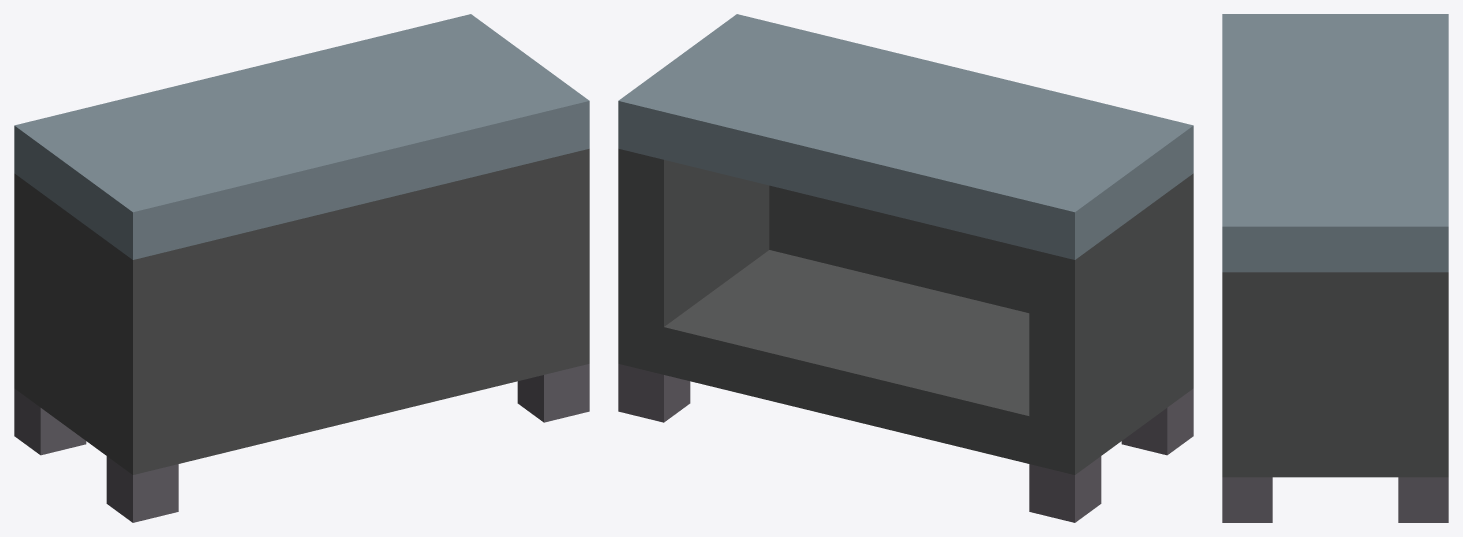
The model's file is wall_doohikey.gltf.
The picture shows the model from 3 angles, left to right: view 1: azimuth 30°, elevation 25°; view 2: azimuth 150°, elevation 25°; view 3: azimuth 270°, elevation 25°; orthographic projection. The views are drawn at different scales.
Parts seen in each view (by area): view 1: Layer.1; view 2: Layer.1; view 3: Layer.1.
Part boxes in pixels (bbox=[...]): Layer.1: bbox=[14, 14, 589, 522]; Layer.1: bbox=[618, 14, 1193, 522]; Layer.1: bbox=[1222, 14, 1448, 522].
Size of the model in its own units: 20 by 13 by 9.
